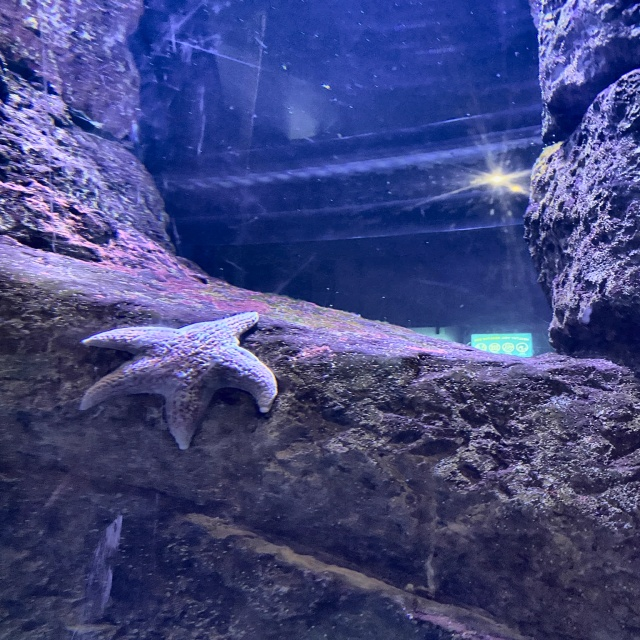starfish: (81, 313, 277, 450)
